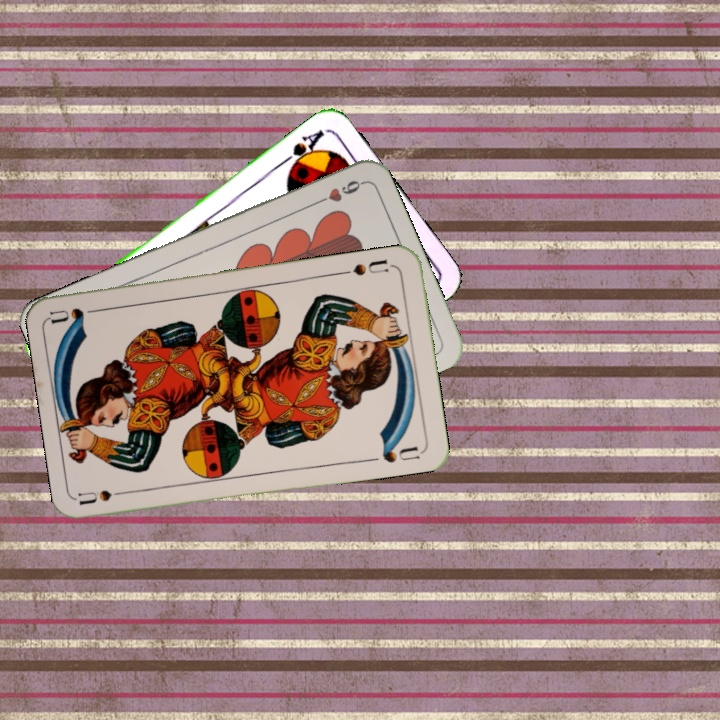H9: (310, 176, 366, 208)
SA: (277, 125, 327, 174)
SU: (76, 485, 136, 508), (337, 255, 391, 278)
